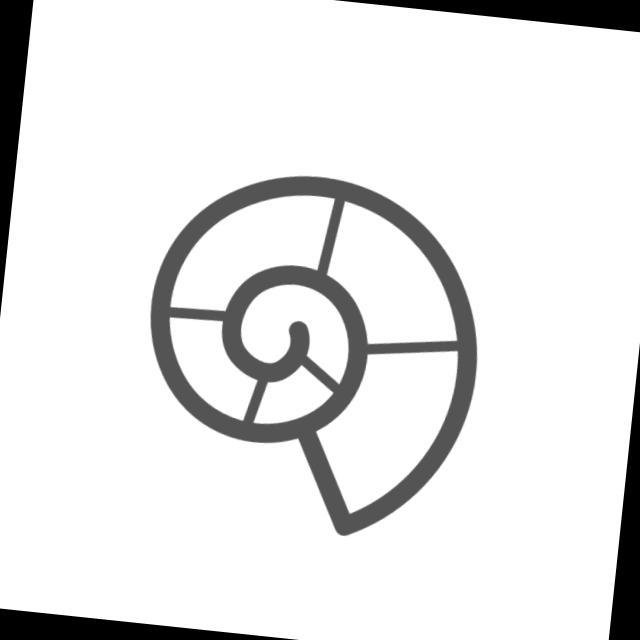fossil: (121, 153, 501, 554)
